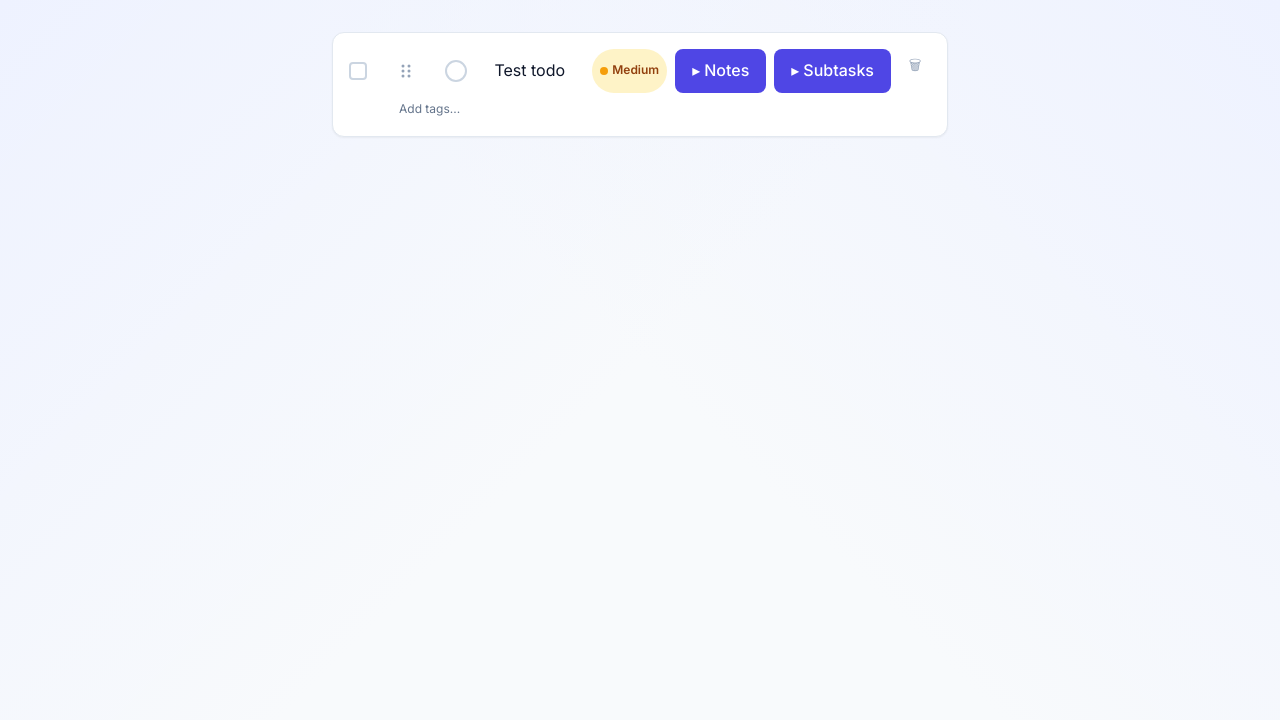
it: TodoItem › closes modal when cancel button is clicked
Click the button named "delete".
click(915, 65)  # box [899,49,931,81]
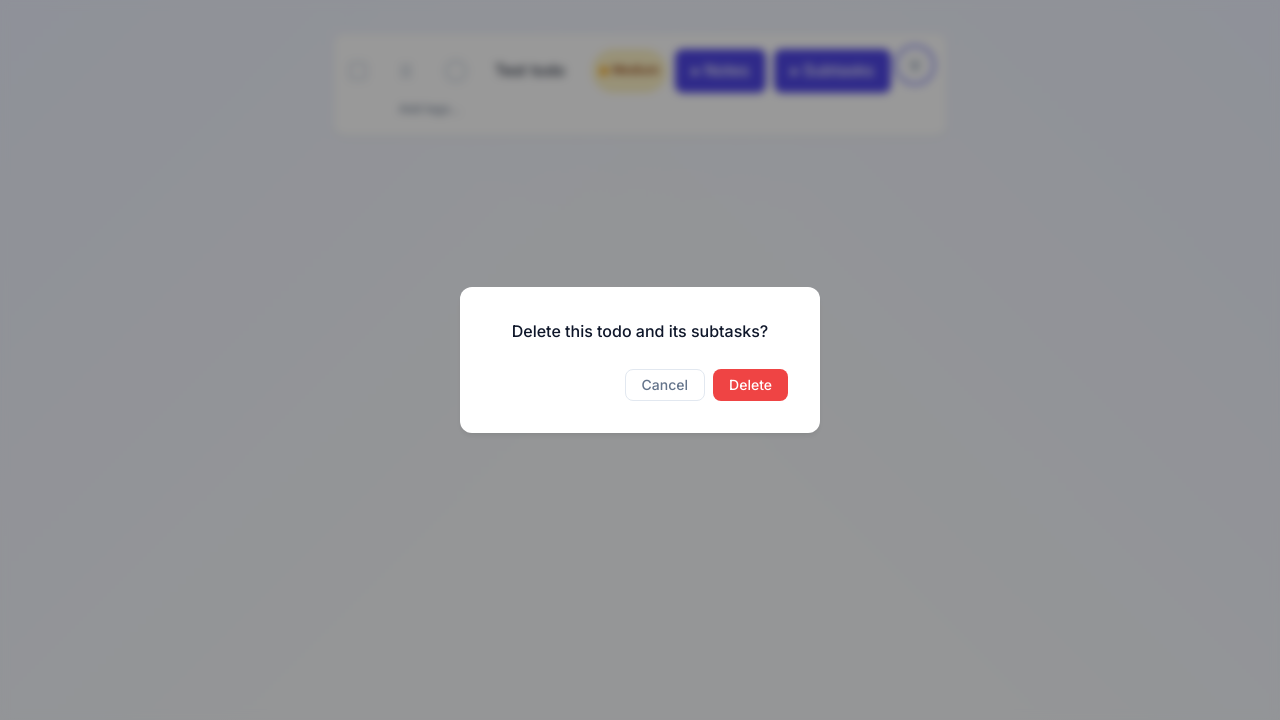
Click the button with aria-label "cancel delete".
click(665, 385)  # box [625,369,705,401]
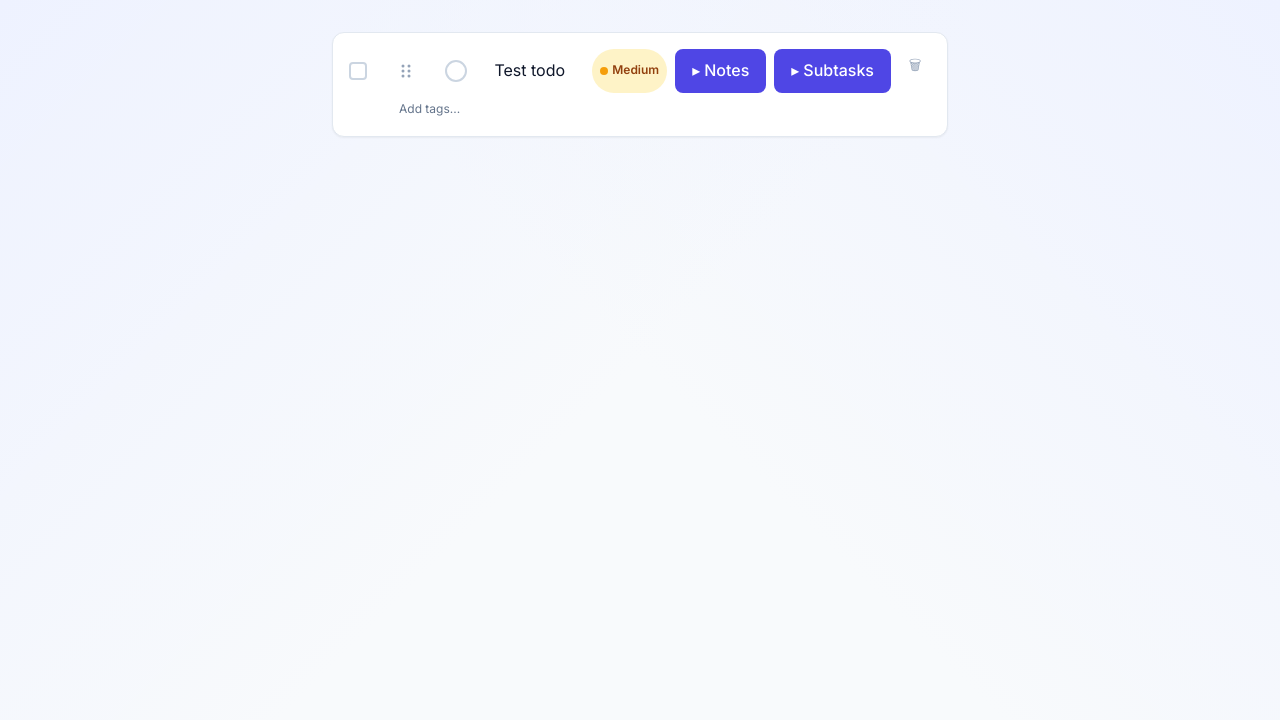
Result: the text "Delete this todo and its subtasks?" is gone
Result: the element with class "delete-modal-overlay" is gone
